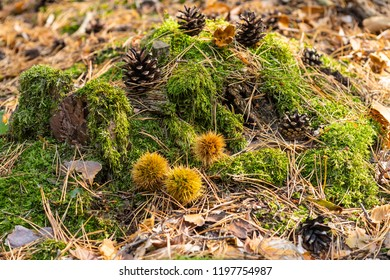Pc: (122, 49, 160, 96), (300, 216, 333, 256), (235, 9, 266, 49), (175, 5, 204, 37), (279, 114, 312, 140), (302, 47, 322, 68)
